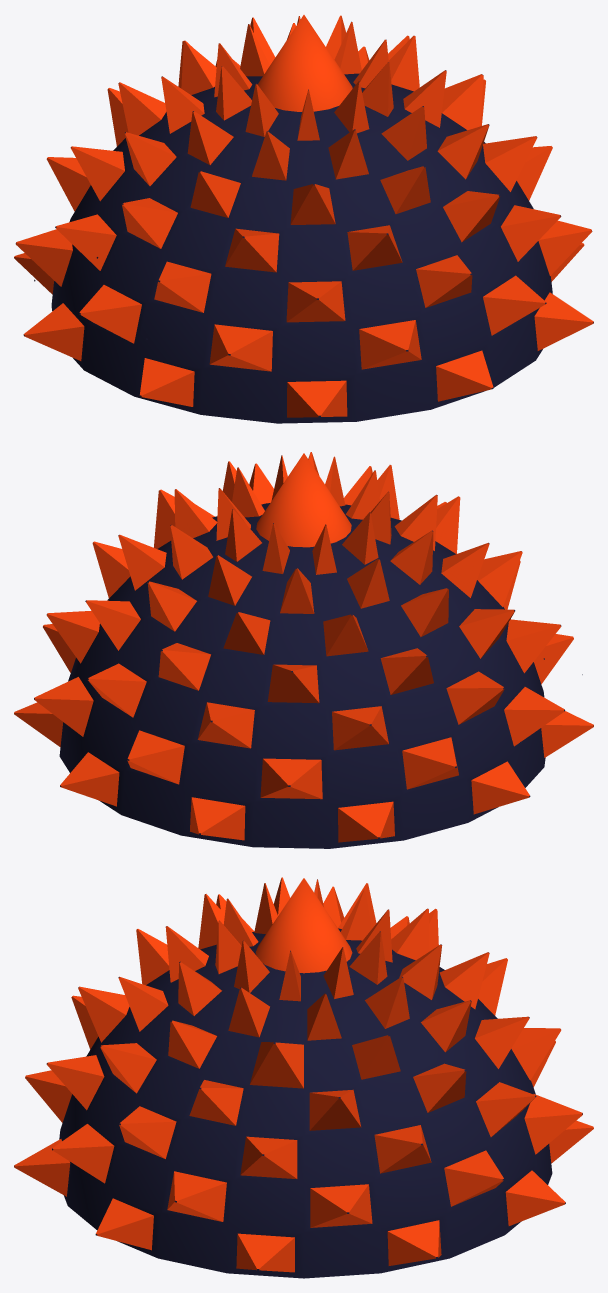
Rendered from Mars_Hurdle_04.fbx.
The picture shows the model from 3 angles, top to bottom: view 1: azimuth 30°, elevation 25°; view 2: azimuth 150°, elevation 25°; view 3: azimuth 270°, elevation 25°; orthographic projection. The views are drawn at different scales.
Visible parts, largest first — view 1: Spike_Hurdle_3; view 2: Spike_Hurdle_3; view 3: Spike_Hurdle_3.
Part boxes in pixels (<box>): Spike_Hurdle_3: <box>14,15,593,423</box>; Spike_Hurdle_3: <box>14,452,593,848</box>; Spike_Hurdle_3: <box>14,877,593,1278</box>.
Bounding box in the file's own units: 153 × 86.24 × 153.
